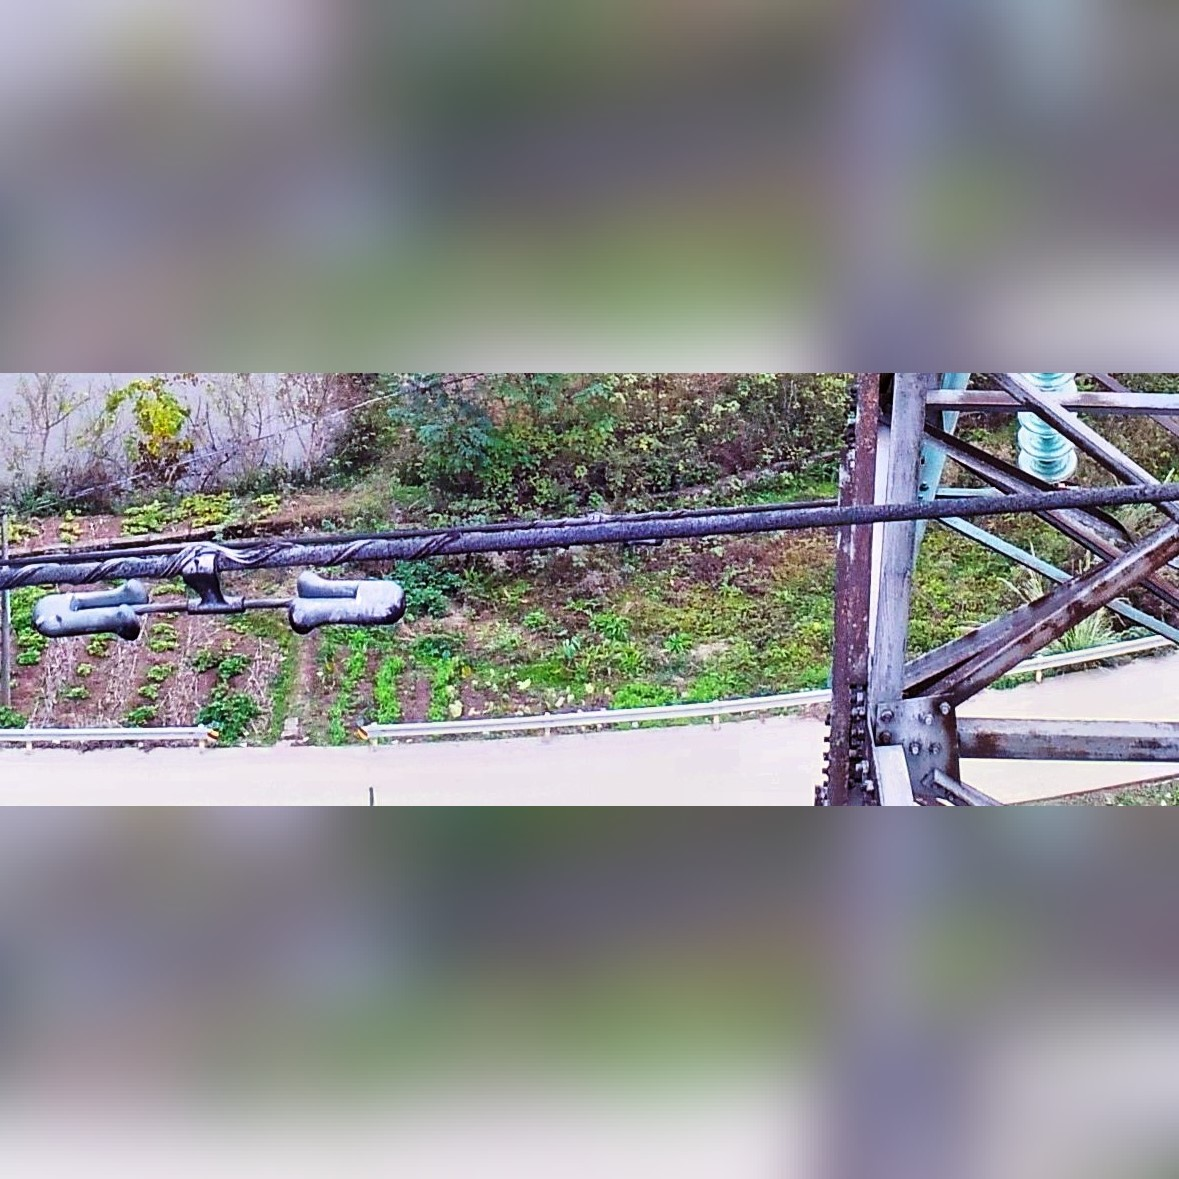Shockproof hammer: (29, 521, 416, 654)
